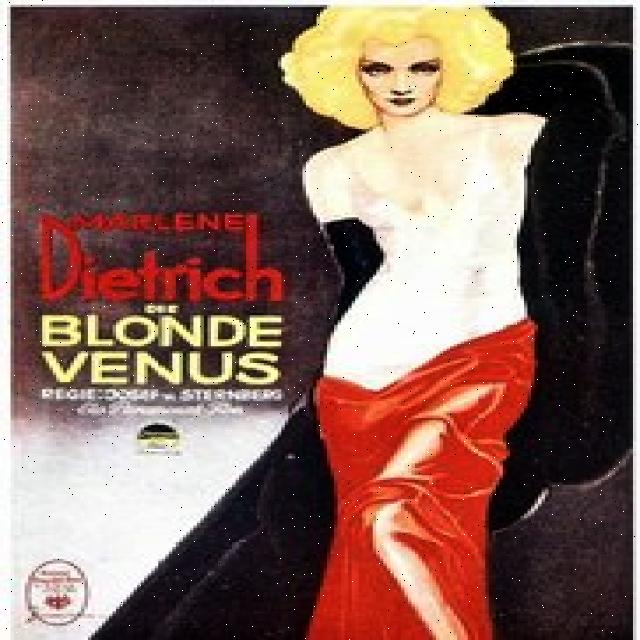movie-judul: (33, 302, 295, 388)
picture: (278, 2, 640, 640)
